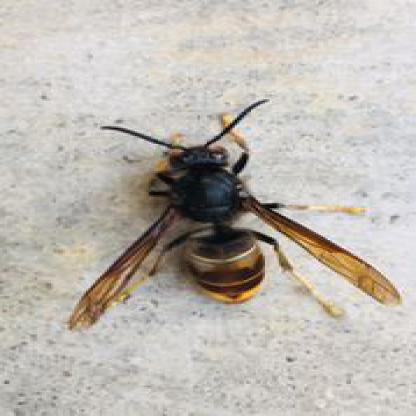Asian Hornet: (66, 93, 392, 333)
